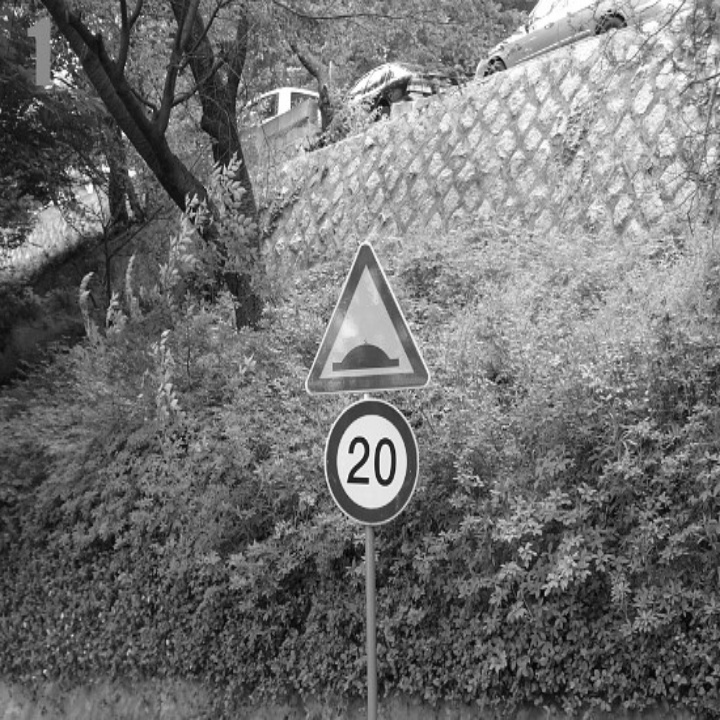bump: (316, 328, 421, 380)
